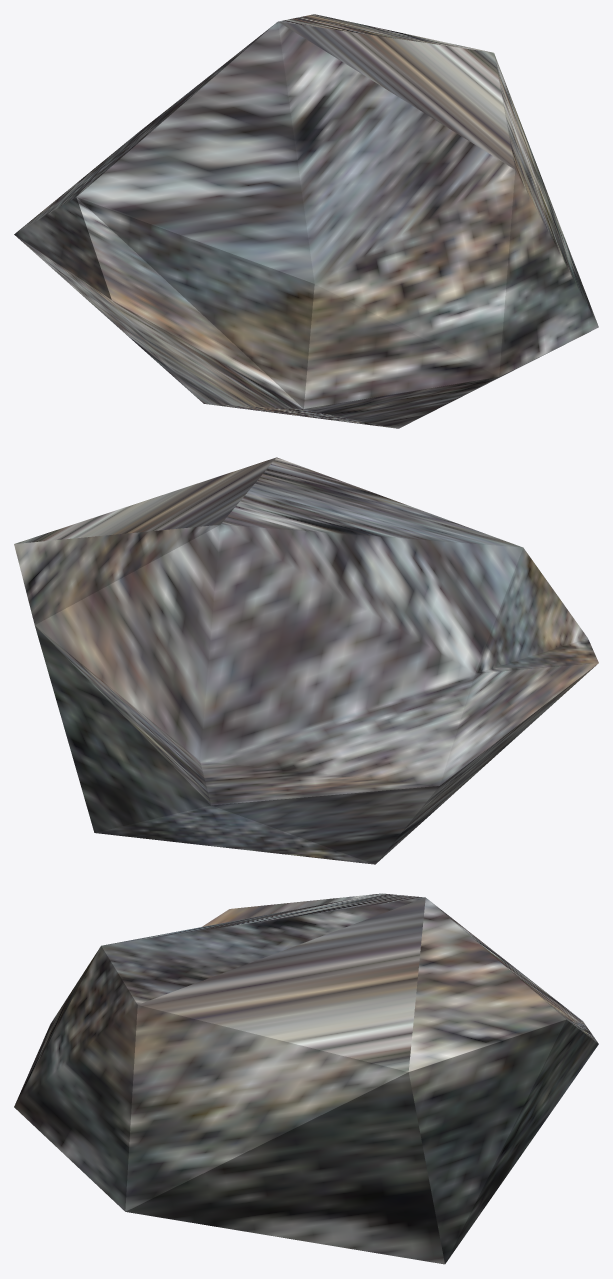
File: items__rock.glb
3 renders of one model, top to bottom at view 1: azimuth 30°, elevation 25°; view 2: azimuth 150°, elevation 25°; view 3: azimuth 270°, elevation 25°, orthographic. The views are drawn at different scales.
Visible parts, largest first — view 1: col-1; view 2: col-1; view 3: col-1.
Part boxes in pixels (x1,y1,x2,y2): col-1: (14, 14, 598, 428); col-1: (14, 457, 598, 864); col-1: (14, 893, 598, 1264).
Size of the model in its own units: 19.73 by 13.06 by 21.4.
1 material, 1 textured.
